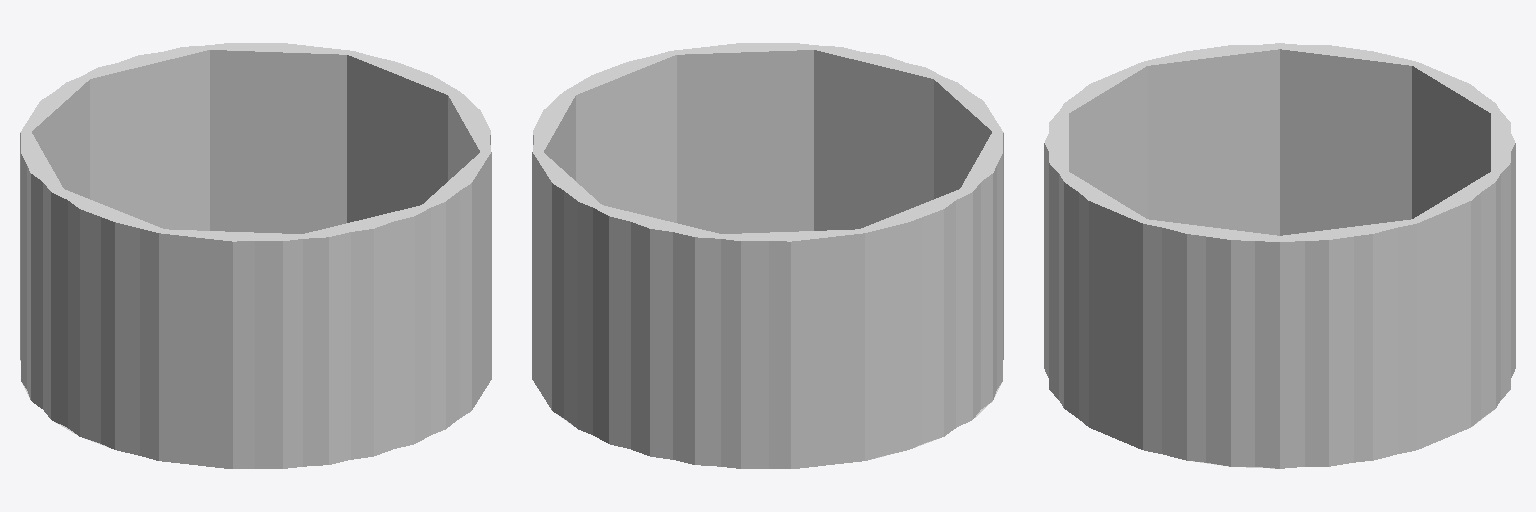
URDF robot description (white_bowl.urdf):
<?xml version="0.0" ?>
<robot name="white_bowl.urdf">
  <link name="baseLink">
    <contact>
      <friction_anchor/>
      <lateral_friction value="1.0"/>
    </contact>
    <inertial>
      <origin rpy="0 0 0" xyz="0 0 0"/>
       <mass value="0.262232875"/>
       <inertia ixx="1" ixy="0" ixz="0" iyy="1" iyz="0" izz="1"/>
    </inertial>
    <visual>
      <origin rpy="0 0 0" xyz="0 0 0"/>
      <geometry>
        <mesh filename="white_bowl.obj" scale="1 1 1"/>
      </geometry>
       <material name="white">
        <color rgba="0.9 0.9 0.9 1"/>
      </material>
    </visual>
    <collision>
      <origin rpy="0 0 0" xyz="0 0 0"/>
      <geometry>
        <mesh filename="white_bowl.obj" scale="1 1 1"/>
      </geometry>
    </collision>
  </link>
</robot>

--- Render facts (derived) ---
Views: 3 orthographic renders of the robot side by side, from view 1: azimuth 30°, elevation 25°; view 2: azimuth 150°, elevation 25°; view 3: azimuth 270°, elevation 25°.
Robot: white_bowl.urdf — 1 links, 0 joints (none); root link baseLink; default pose: all joints at 0.
Visible links, largest first — view 1: baseLink; view 2: baseLink; view 3: baseLink.
Link boxes in pixels (x1,y1,x2,y2): baseLink: [20, 43, 491, 468]; baseLink: [532, 43, 1003, 468]; baseLink: [1044, 43, 1515, 468].
Size in the robot's own frame: 0.096 by 0.096 by 0.051 metres.
1 mesh visuals loaded from 1 distinct referenced files (1 OBJ).